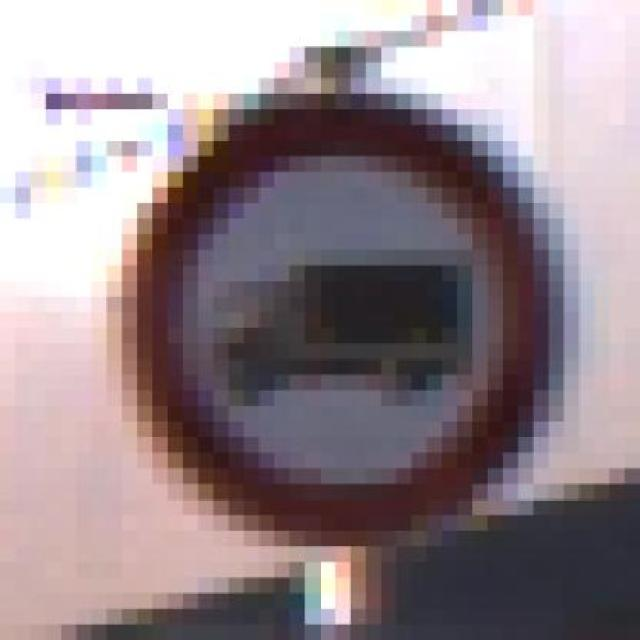Truck traffic is prohibited: (76, 47, 579, 562)
